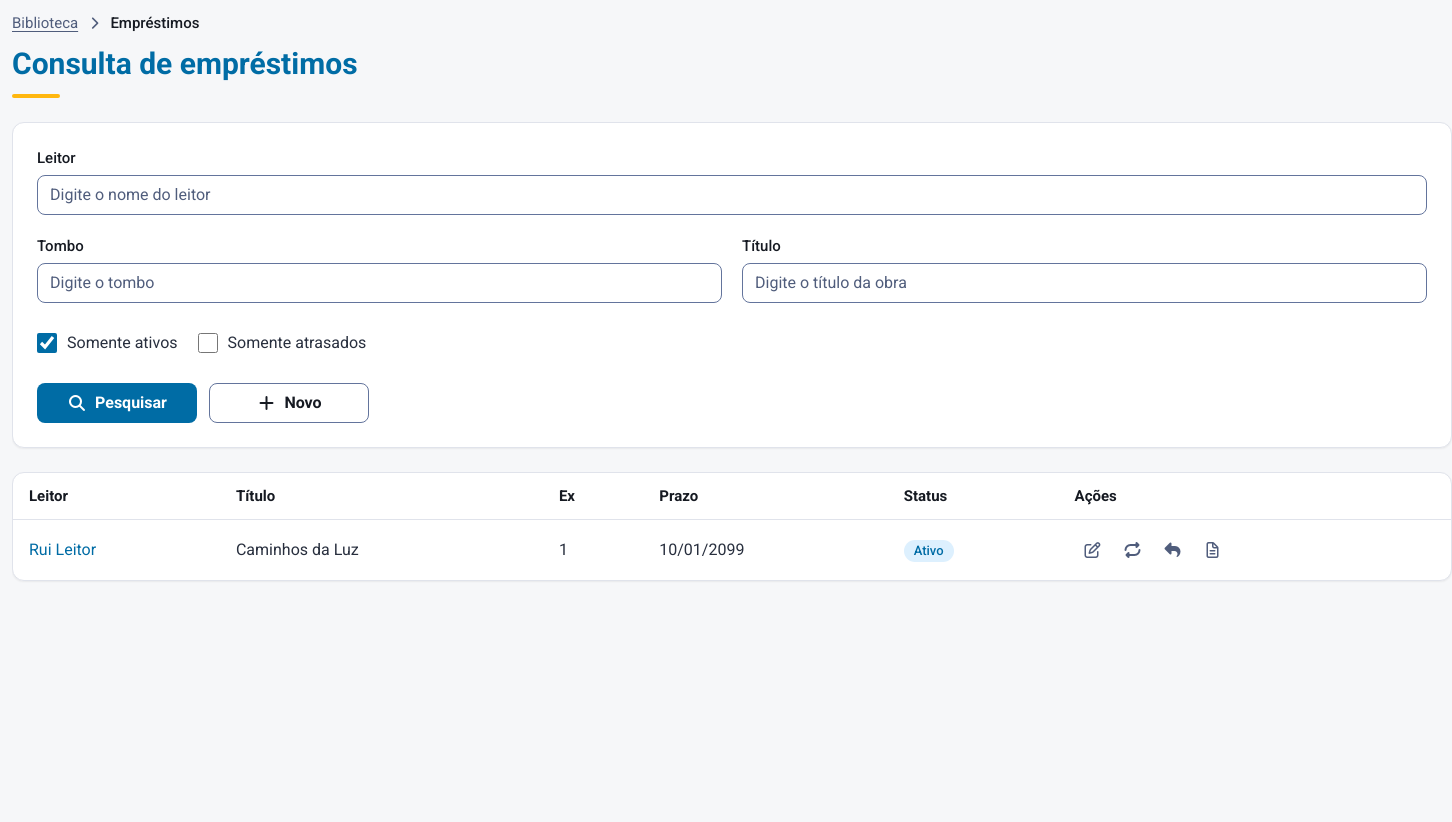
Test case: loans page actions › reports a renewal interrupted by the network and offers it again
Click the button named "Renovar".
click(1133, 550)  # box [1115,532,1151,568]
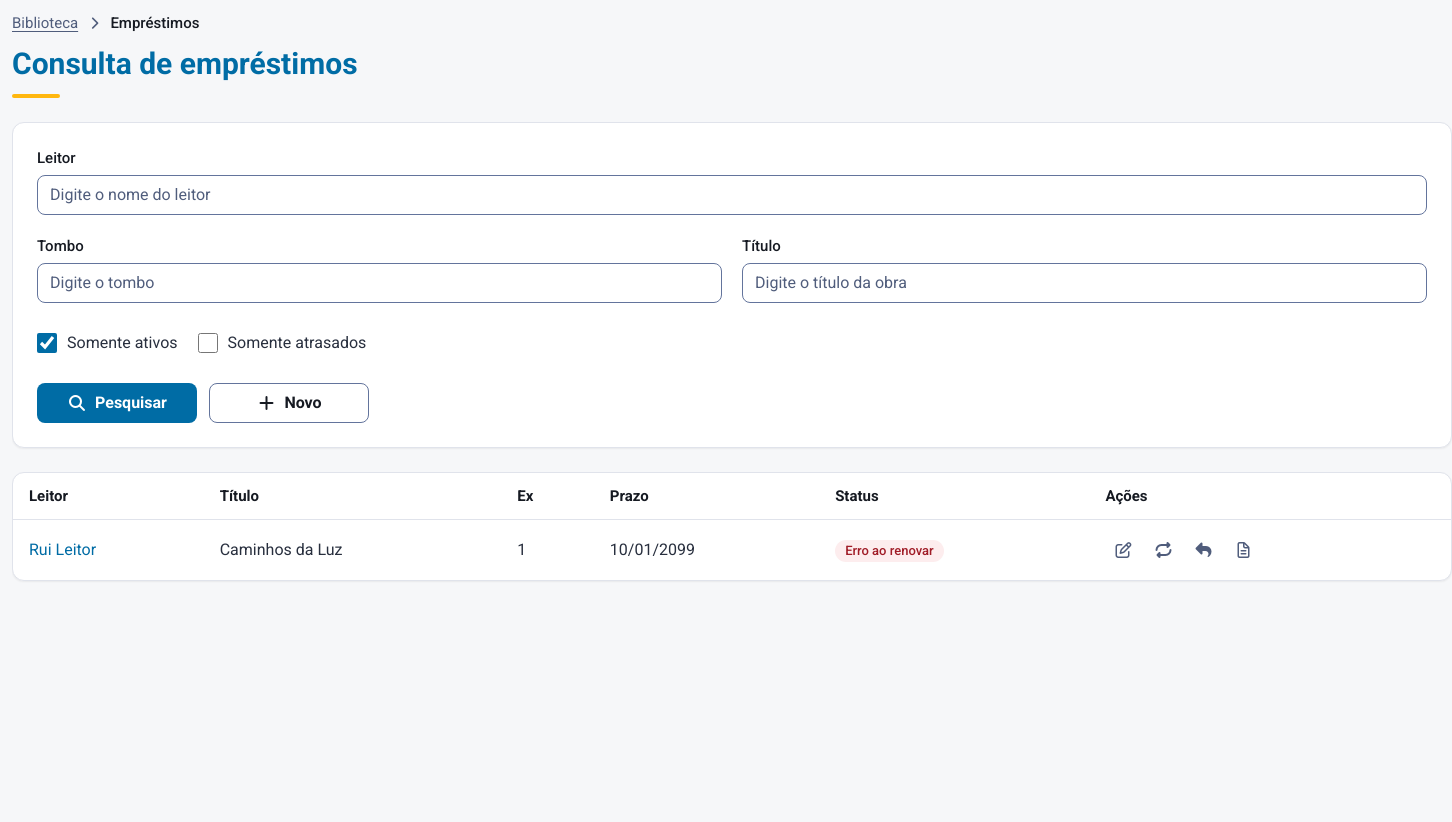
Expected: the button named "Renovar" is enabled, [1145,532,1181,568]
Expected: the text "Erro ao renovar" is shown, [835,540,944,562]
